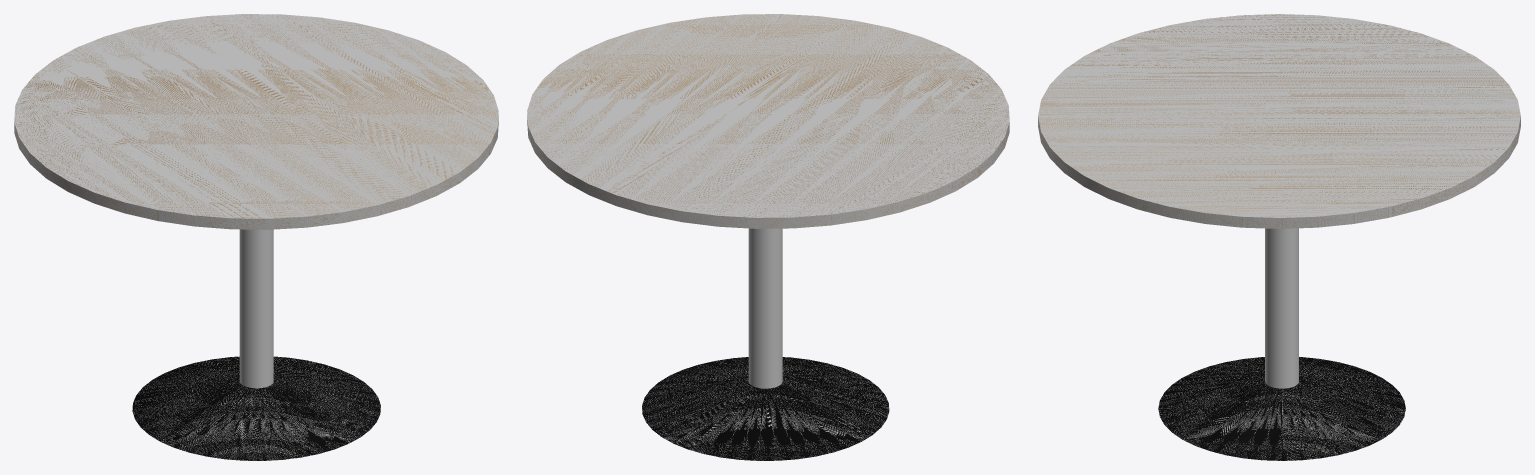
File: round_table.dae
3 renders of one model, left to right at view 1: azimuth 30°, elevation 25°; view 2: azimuth 150°, elevation 25°; view 3: azimuth 270°, elevation 25°, orthographic.
Parts seen in each view (by area): view 1: group_1, Agrupar_9, Agrupar_8; view 2: group_1, Agrupar_9, Agrupar_8; view 3: group_1, Agrupar_9, Agrupar_8.
Boxes of the visible parts, x1,y1,x2,y2 form: group_1: (14, 14, 498, 229); Agrupar_9: (132, 356, 380, 460); Agrupar_8: (239, 229, 273, 388); group_1: (527, 14, 1009, 228); Agrupar_9: (642, 357, 889, 460); Agrupar_8: (748, 228, 782, 388); group_1: (1038, 14, 1520, 228); Agrupar_9: (1158, 357, 1405, 460); Agrupar_8: (1265, 228, 1298, 388).
Bounding box in the file's own units: 42.99 × 42.99 × 28.68.
